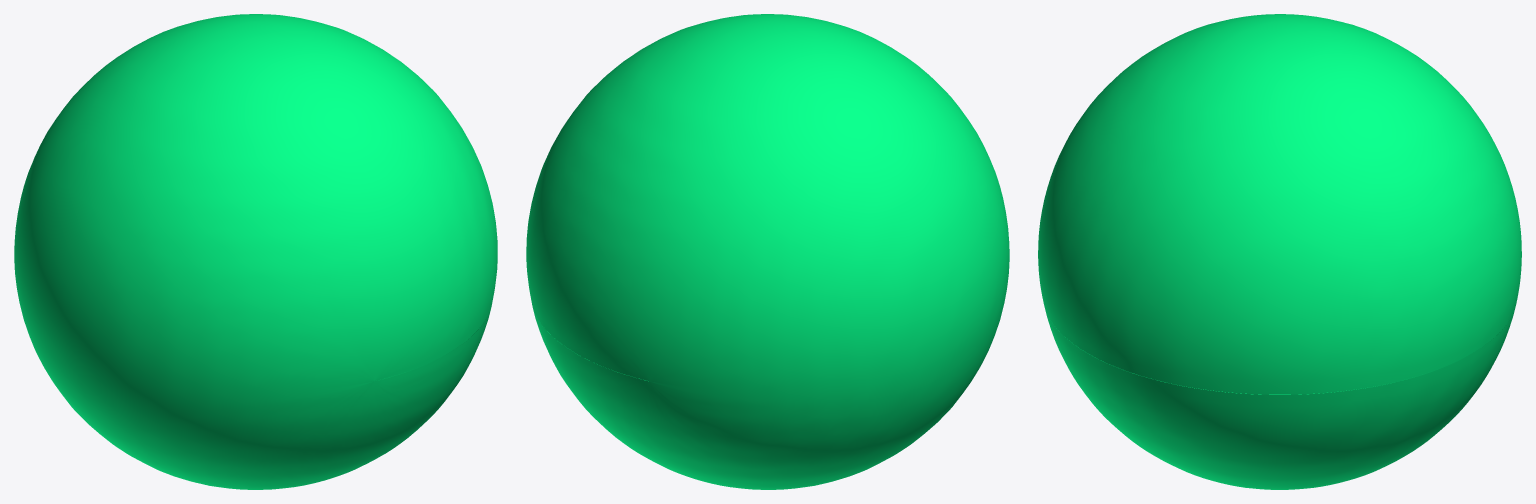
The model's file is parallel_transport_surface_ar_universal.glb.
The picture shows the model from 3 angles, left to right: view 1: azimuth 30°, elevation 25°; view 2: azimuth 150°, elevation 25°; view 3: azimuth 270°, elevation 25°; orthographic projection.
Visible parts, largest first — view 1: parallel_transport_surface_ar; view 2: parallel_transport_surface_ar; view 3: parallel_transport_surface_ar.
Part boxes in pixels (box(x1,y1,x2,y2)): parallel_transport_surface_ar: box(14, 14, 497, 489); parallel_transport_surface_ar: box(526, 14, 1009, 489); parallel_transport_surface_ar: box(1038, 14, 1521, 489).
Bounding box in the file's own units: 0.9999 × 0.9808 × 1.
